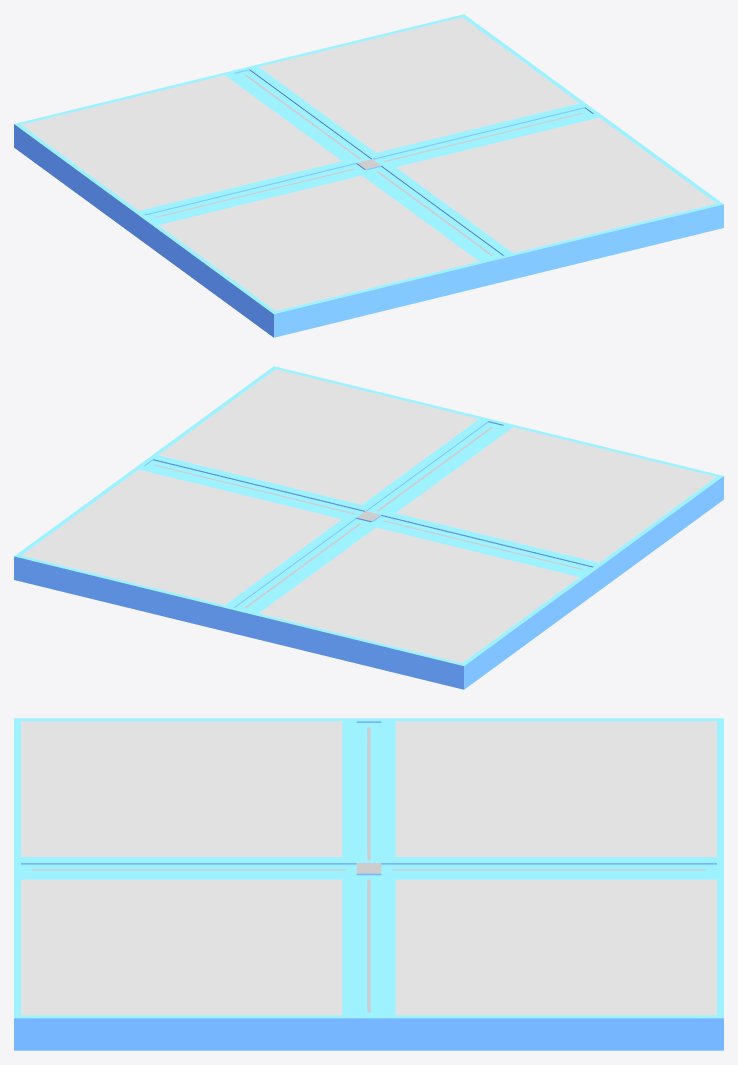
Rendered from floor-5.fbx.
3 views of the same model, one above another, from view 1: azimuth 30°, elevation 25°; view 2: azimuth 150°, elevation 25°; view 3: azimuth 270°, elevation 25° (orthographic). The views are drawn at different scales.
Parts seen in each view (by area): view 1: floor_4.002; view 2: floor_4.002; view 3: floor_4.002.
Part boxes in pixels (<box>): floor_4.002: <box>14,14,723,337</box>; floor_4.002: <box>14,366,723,689</box>; floor_4.002: <box>14,718,723,1050</box>.
Bounding box in the file's own units: 8 × 0.4 × 8.
